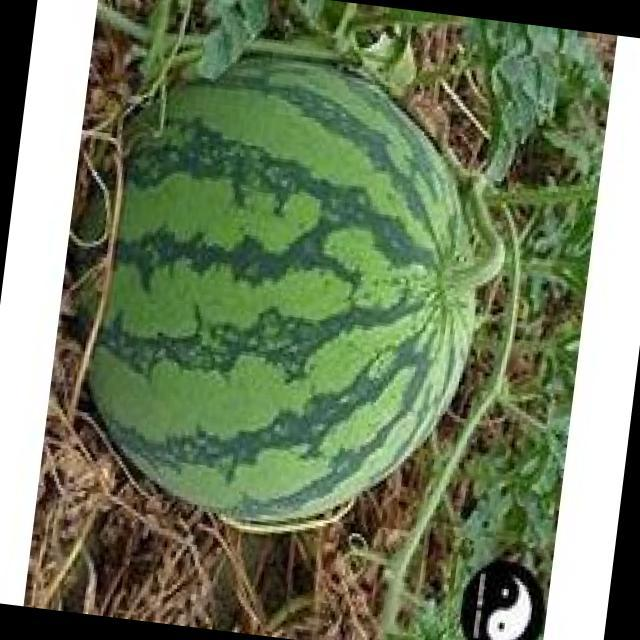watermelon: (89, 57, 481, 528)
